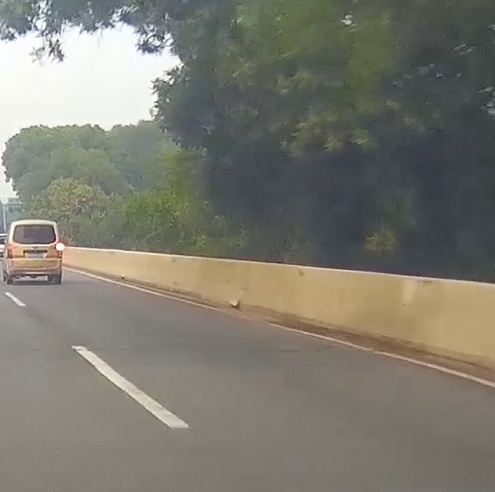L_light: (7, 243, 13, 258)
R_light: (57, 243, 62, 258)
T_light: (30, 224, 40, 227)
day-right: (7, 220, 63, 284)
